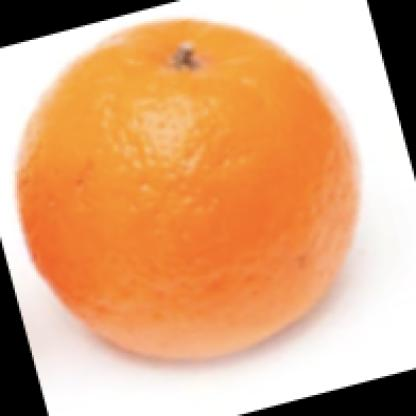fresh: (18, 20, 356, 366)
